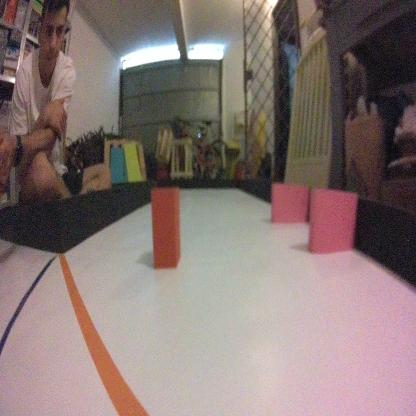magenta: (305, 181, 356, 262), (270, 178, 306, 223)
red: (148, 183, 182, 270)
